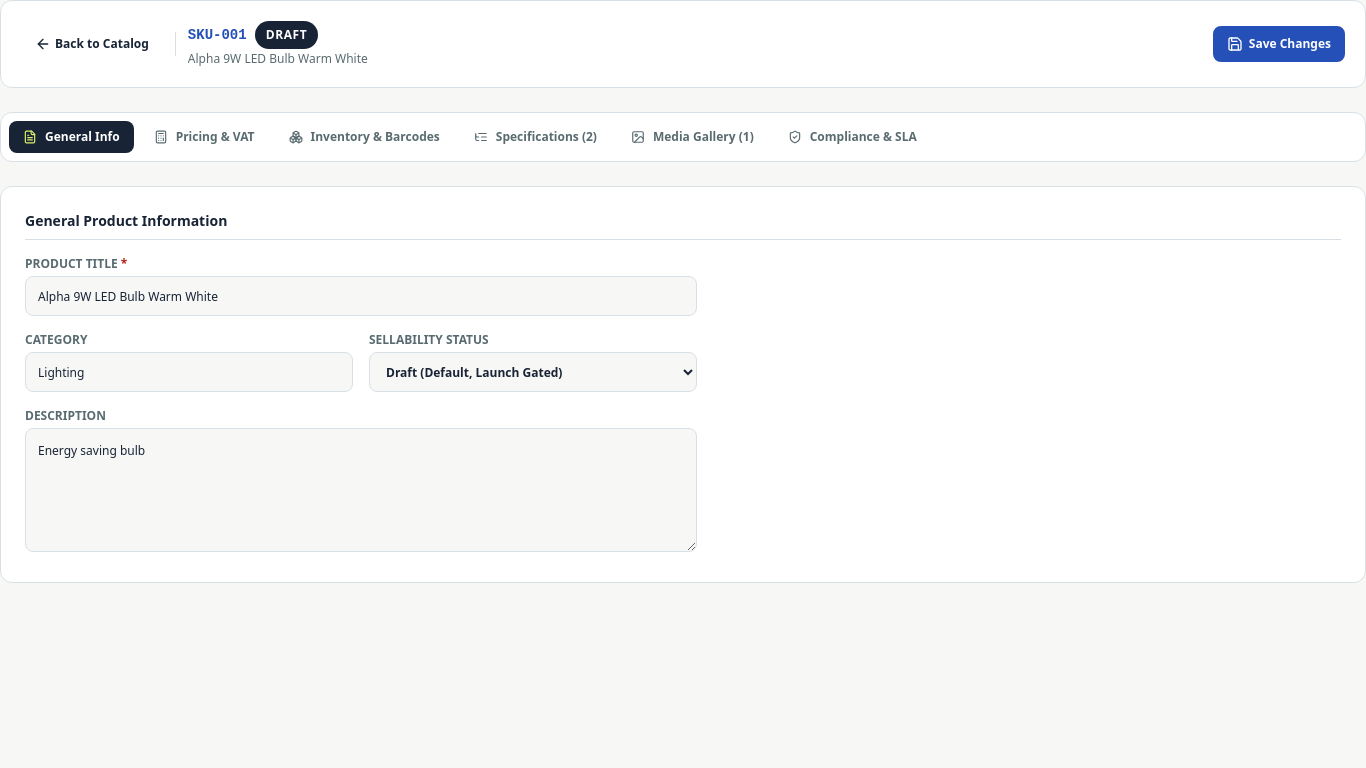
Test: ToolCart Retail Admin Portal Hardening & Verification Suite › Feature 9–15: ProductEditorForm Tabbed Navigation & Live Calculations › adds and removes technical specifications dynamically
Click the button "Specifications (2)". click: {"x": 535, "y": 137}
box: [460,121,611,153]
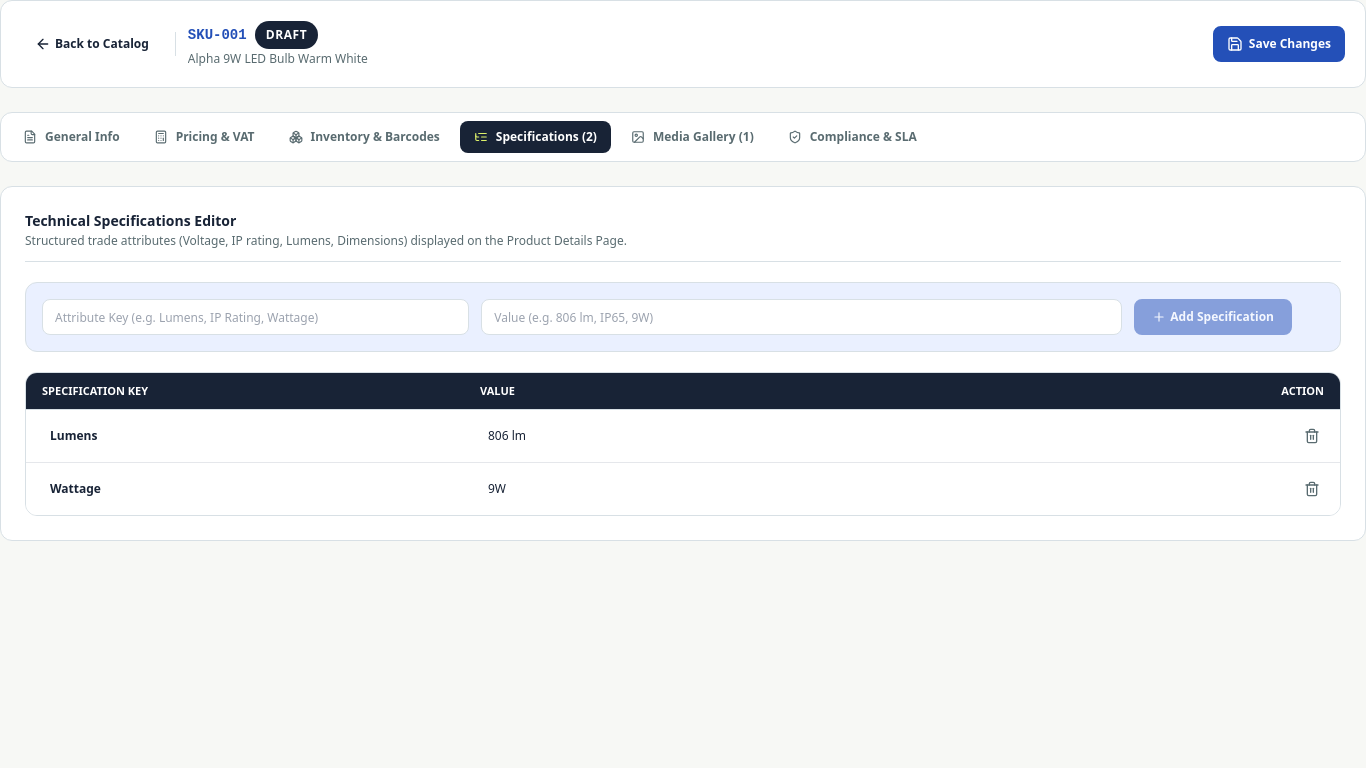
Type "IP Rating" into the field with placeholder "Attribute Key (e.g. Lumens, IP Rating, Wattage)". click: {"x": 256, "y": 317}
box: [42,299,469,335]
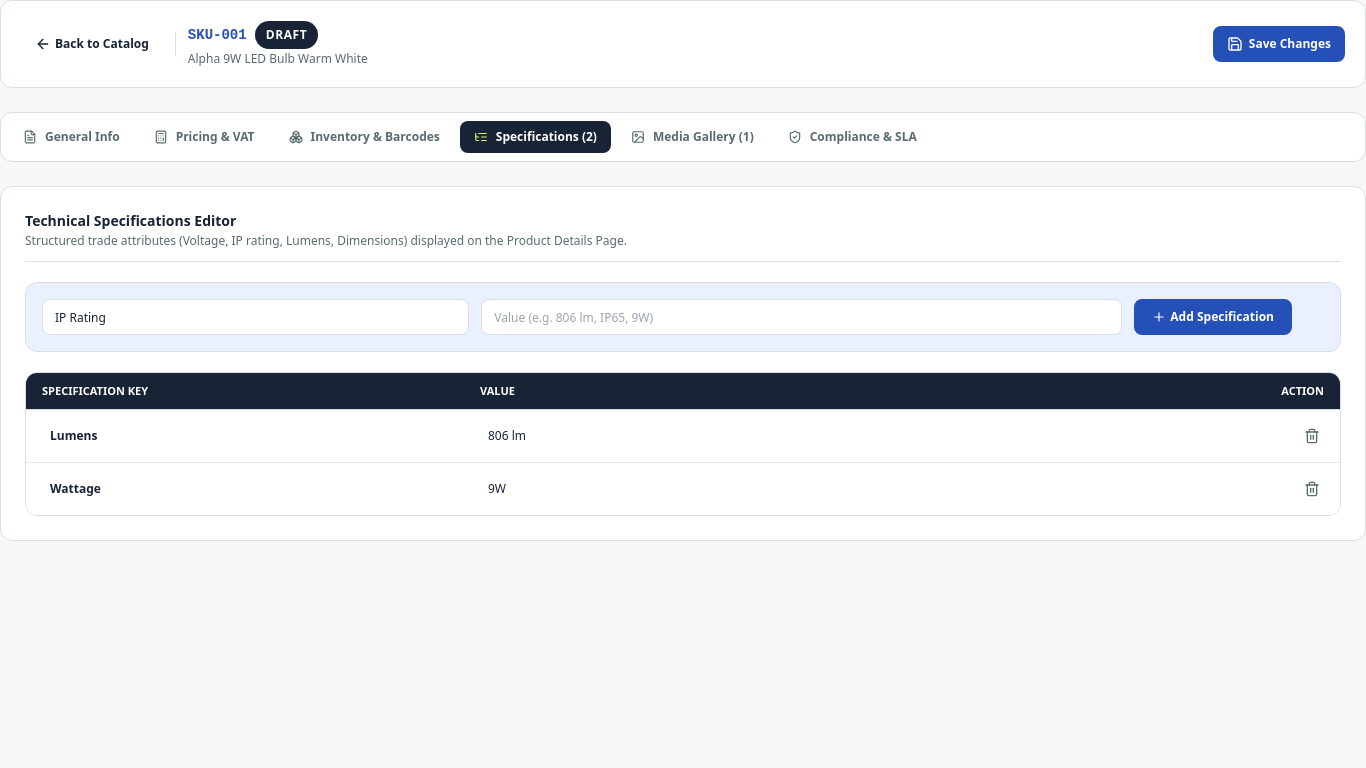
Type "IP65" into the field with placeholder "Value (e.g. 806 lm, IP65, 9W)". click: {"x": 802, "y": 317}
box: [481,299,1122,335]
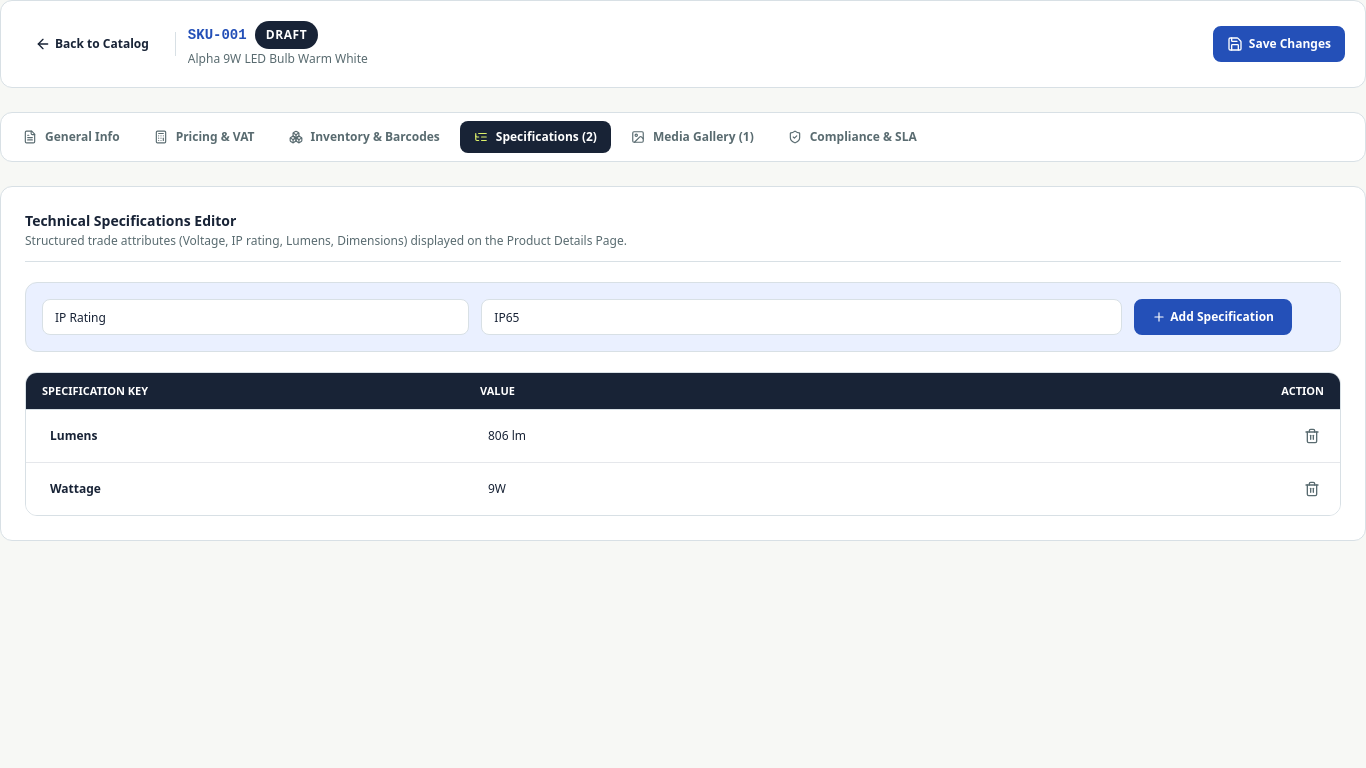
Click the button "Add Specification". click: {"x": 1213, "y": 317}
box: [1134,299,1292,335]
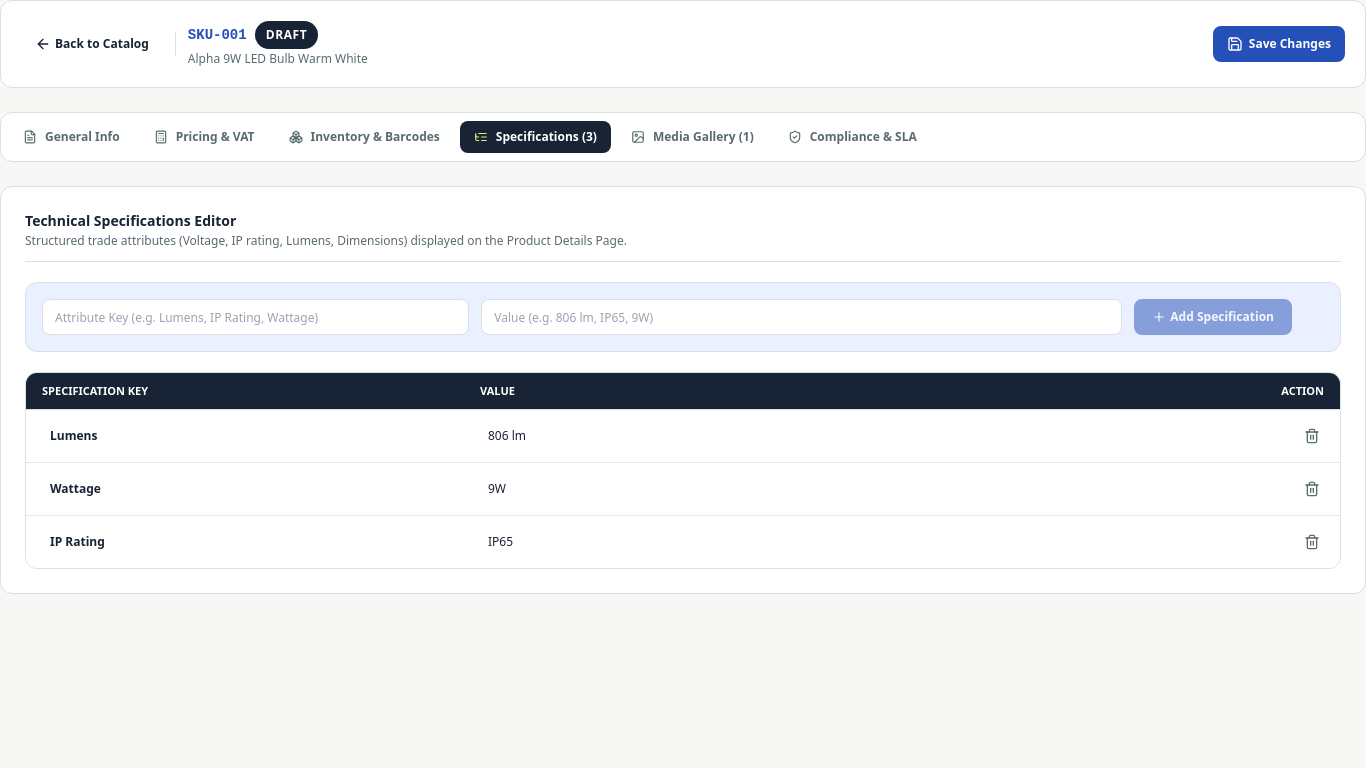
Check: the 5th field showing "IP Rating" is shown, box [42,526,448,558]
Check: the 6th field showing "IP65" is shown, box [480,526,1249,558]
